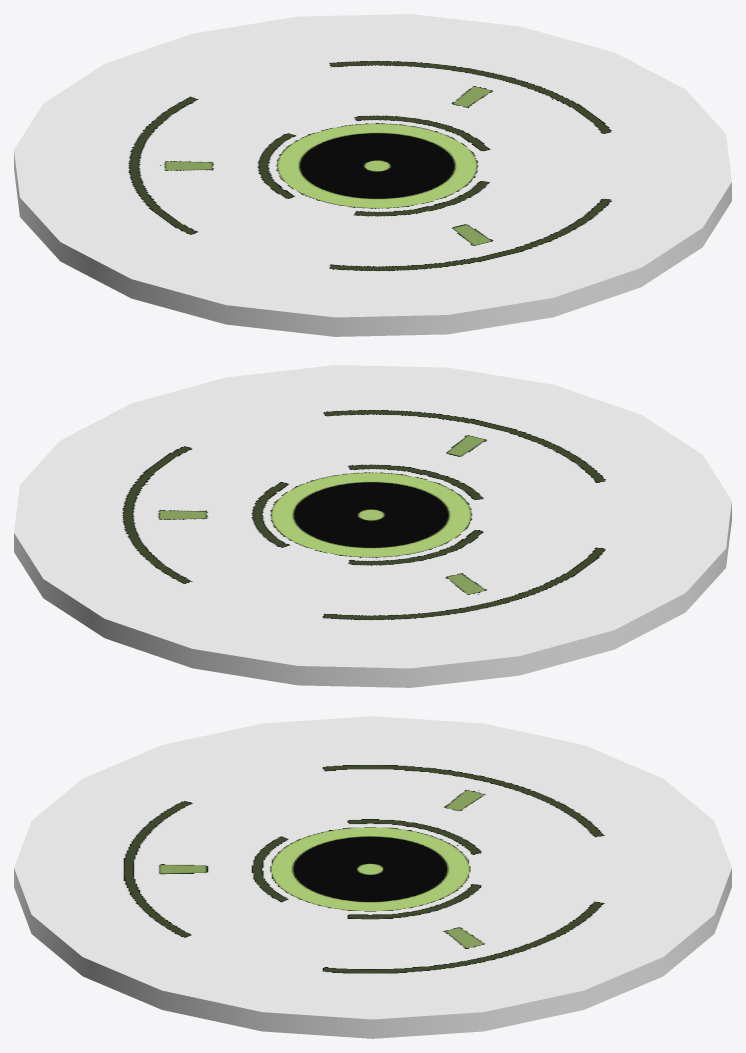
File: crosshair.obj
3 renders of one model, top to bottom at view 1: azimuth 30°, elevation 25°; view 2: azimuth 150°, elevation 25°; view 3: azimuth 270°, elevation 25°, orthographic.
Visible parts, largest first — view 1: pCylinder1; view 2: pCylinder1; view 3: pCylinder1.
Boxes of the visible parts, <box> form: pCylinder1: <box>14,14,731,336</box>; pCylinder1: <box>14,365,731,687</box>; pCylinder1: <box>14,716,731,1038</box>.
Bounding box in the file's own units: 2 × 0.0595 × 2.
1 material, 1 textured.
